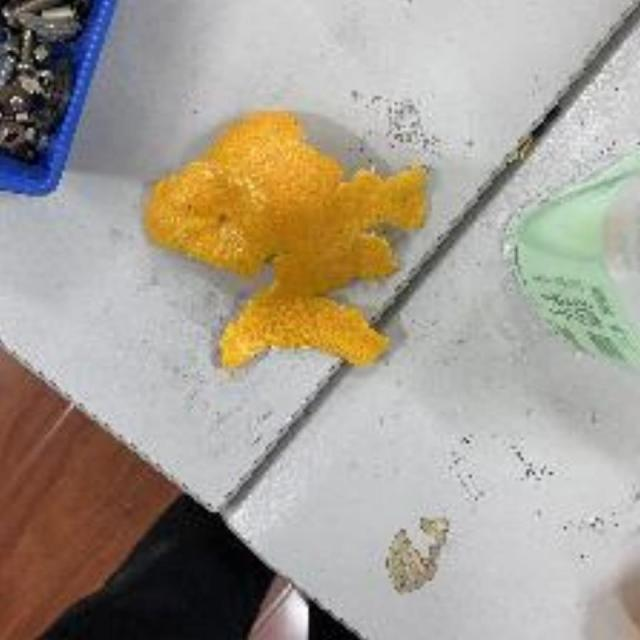orange-peel: (143, 109, 431, 373)
